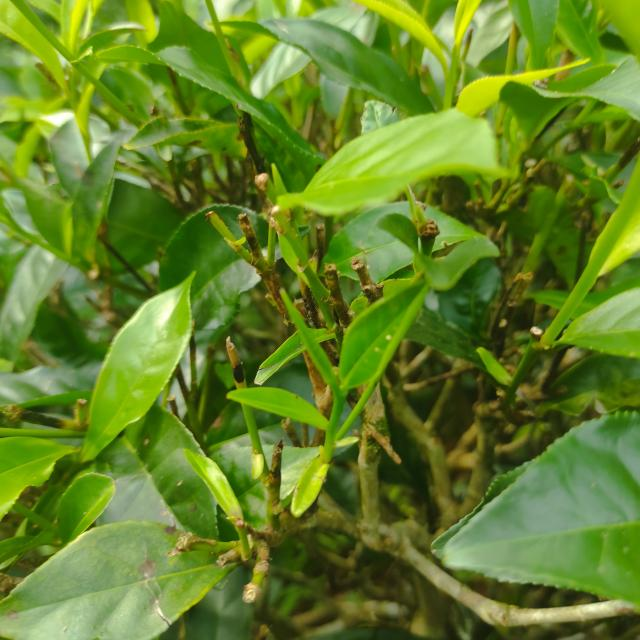unopened_leaf: (278, 283, 344, 403), (267, 158, 297, 196)
